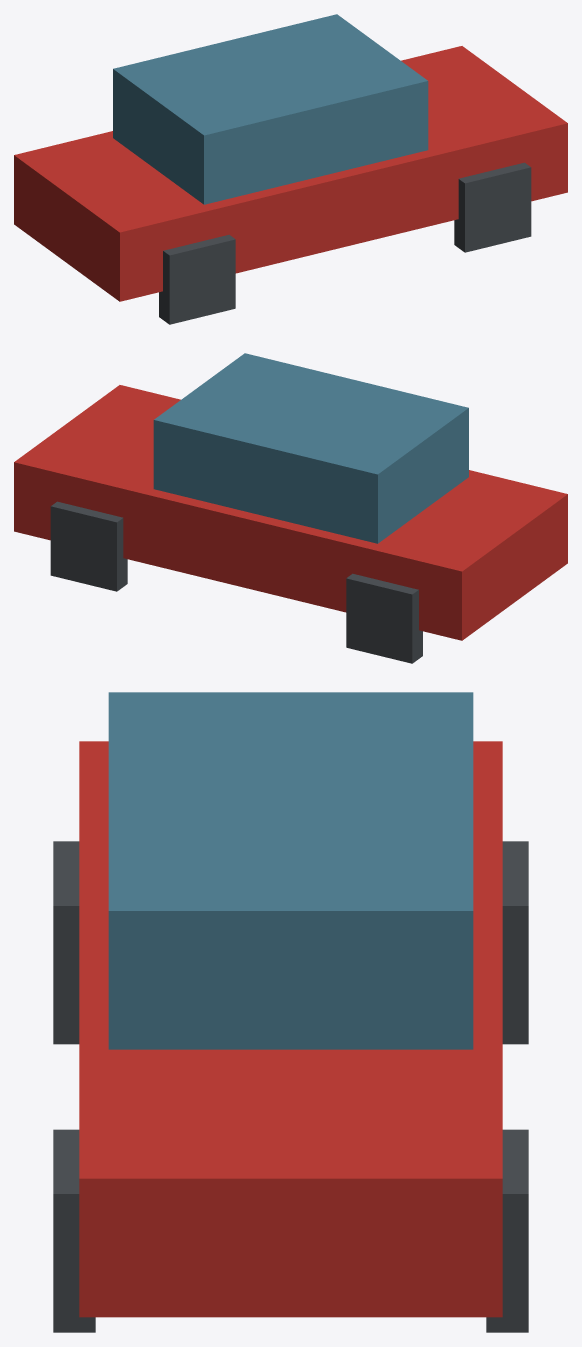
The model's file is bh_cr_vehicle_sedan_01_lod0.glb.
3 views of the same model, one above another, from view 1: azimuth 30°, elevation 25°; view 2: azimuth 150°, elevation 25°; view 3: azimuth 270°, elevation 25° (orthographic). The views are drawn at different scales.
Parts seen in each view (by area): view 1: bh_cr_vehicle_sedan_01_chassis, bh_cr_vehicle_sedan_01_cabin, bh_cr_vehicle_sedan_01_wheel_1.45_-0.92, bh_cr_vehicle_sedan_01_wheel_-1.45_-0.92; view 2: bh_cr_vehicle_sedan_01_chassis, bh_cr_vehicle_sedan_01_cabin, bh_cr_vehicle_sedan_01_wheel_1.45_0.92, bh_cr_vehicle_sedan_01_wheel_-1.45_0.92; view 3: bh_cr_vehicle_sedan_01_chassis, bh_cr_vehicle_sedan_01_cabin, bh_cr_vehicle_sedan_01_wheel_1.45_-0.92, bh_cr_vehicle_sedan_01_wheel_1.45_0.92, bh_cr_vehicle_sedan_01_wheel_-1.45_-0.92, bh_cr_vehicle_sedan_01_wheel_-1.45_0.92.
Part boxes in pixels (bbox=[...]): bh_cr_vehicle_sedan_01_chassis: bbox=[14, 46, 567, 301]; bh_cr_vehicle_sedan_01_cabin: bbox=[113, 14, 428, 204]; bh_cr_vehicle_sedan_01_wheel_1.45_-0.92: bbox=[454, 162, 531, 252]; bh_cr_vehicle_sedan_01_wheel_-1.45_-0.92: bbox=[159, 234, 235, 324]; bh_cr_vehicle_sedan_01_chassis: bbox=[14, 385, 567, 640]; bh_cr_vehicle_sedan_01_cabin: bbox=[153, 353, 468, 543]; bh_cr_vehicle_sedan_01_wheel_1.45_0.92: bbox=[50, 501, 127, 591]; bh_cr_vehicle_sedan_01_wheel_-1.45_0.92: bbox=[346, 573, 422, 663]; bh_cr_vehicle_sedan_01_chassis: bbox=[79, 741, 502, 1317]; bh_cr_vehicle_sedan_01_cabin: bbox=[108, 692, 473, 1049]; bh_cr_vehicle_sedan_01_wheel_1.45_-0.92: bbox=[53, 1129, 95, 1332]; bh_cr_vehicle_sedan_01_wheel_1.45_0.92: bbox=[486, 1129, 528, 1332]; bh_cr_vehicle_sedan_01_wheel_-1.45_-0.92: bbox=[53, 841, 79, 1044]; bh_cr_vehicle_sedan_01_wheel_-1.45_0.92: bbox=[502, 841, 528, 1044].
Bounding box in the file's own units: 4.4 × 1.57 × 2.02.
